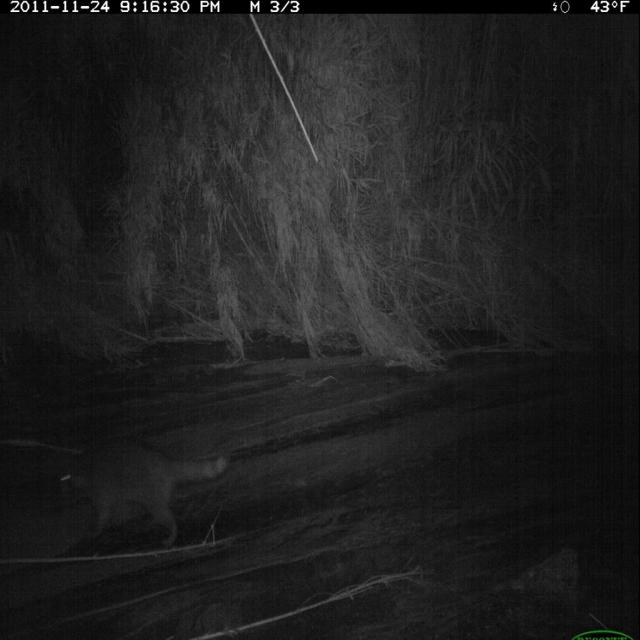raccoon: (41, 429, 234, 554)
